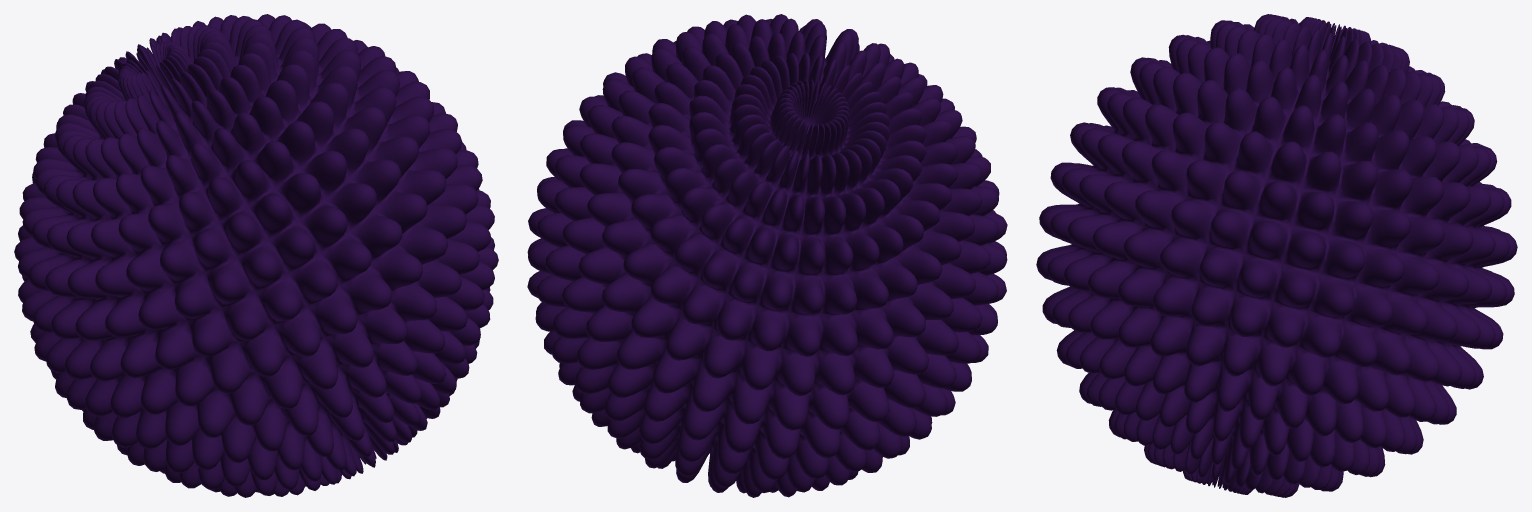
Rendered from ball.fbx.
3 views of the same model, side by side, from view 1: azimuth 30°, elevation 25°; view 2: azimuth 150°, elevation 25°; view 3: azimuth 270°, elevation 25° (orthographic).
Parts seen in each view (by area): view 1: spikyBall; view 2: spikyBall; view 3: spikyBall.
Boxes of the visible parts, box(x1,y1,x2,y2) form: spikyBall: box(14, 14, 498, 497); spikyBall: box(527, 14, 1007, 497); spikyBall: box(1036, 14, 1517, 497).
Size of the model in its own units: 5.45 by 5.48 by 5.46.
